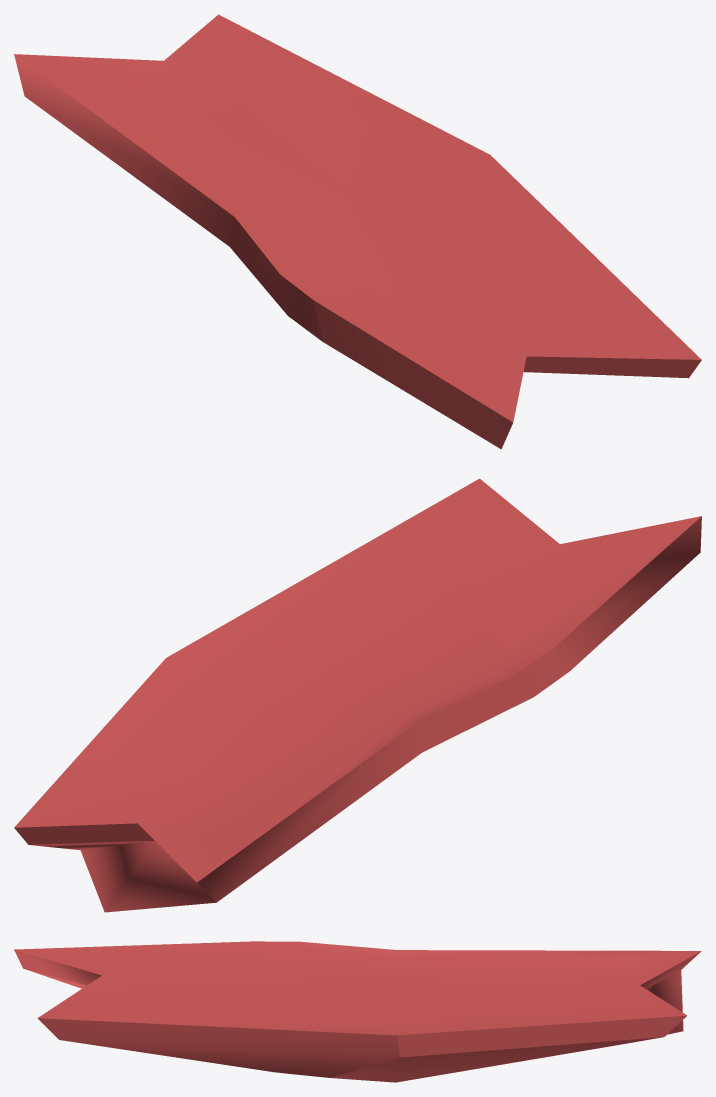
Rendered from FloorEarth2.fbx.
3 views of the same model, one above another, from view 1: azimuth 30°, elevation 25°; view 2: azimuth 150°, elevation 25°; view 3: azimuth 270°, elevation 25° (orthographic). The views are drawn at different scales.
Visible parts, largest first — view 1: FloorEarth2; view 2: FloorEarth2; view 3: FloorEarth2.
Boxes of the visible parts, <box> form: FloorEarth2: <box>14,14,701,449</box>; FloorEarth2: <box>14,478,701,912</box>; FloorEarth2: <box>14,941,701,1082</box>.
Size of the model in its own units: 742 by 260 by 2225.
